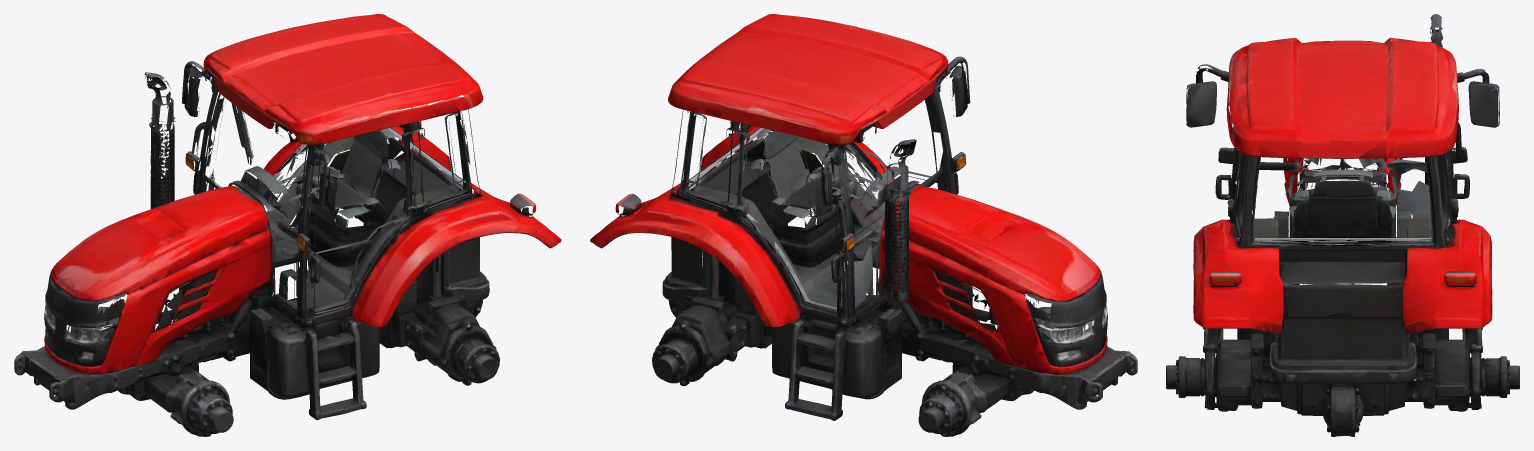
The model's file is trator.glb.
3 renders of one model, left to right at view 1: azimuth 30°, elevation 25°; view 2: azimuth 150°, elevation 25°; view 3: azimuth 270°, elevation 25°, orthographic. The views are drawn at different scales.
Parts seen in each view (by area): view 1: TratorCorpo_LOW; view 2: TratorCorpo_LOW; view 3: TratorCorpo_LOW.
Part boxes in pixels (box(x1,y1,x2,y2)): TratorCorpo_LOW: box(14, 14, 561, 436); TratorCorpo_LOW: box(590, 14, 1137, 436); TratorCorpo_LOW: box(1166, 14, 1519, 436).
Bounding box in the file's own units: 3.13 × 1.9 × 2.02.
Materials: 1 (1 with a texture image).
